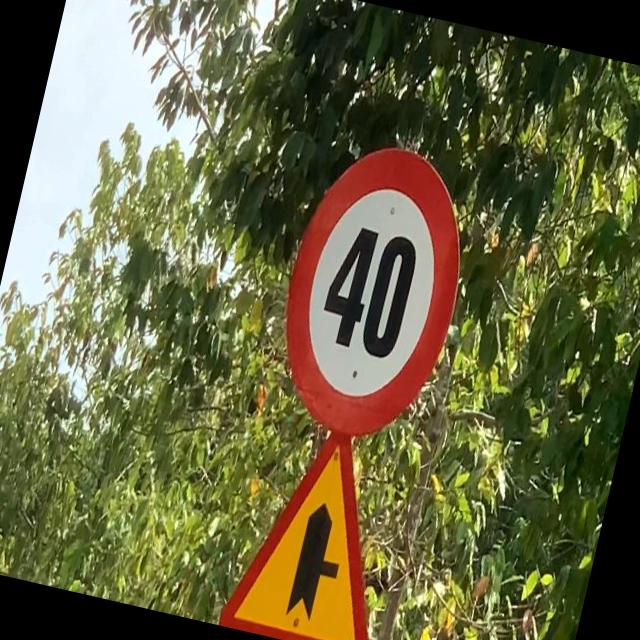P-127: (258, 126, 488, 452)
W-207b: (212, 411, 416, 640)
